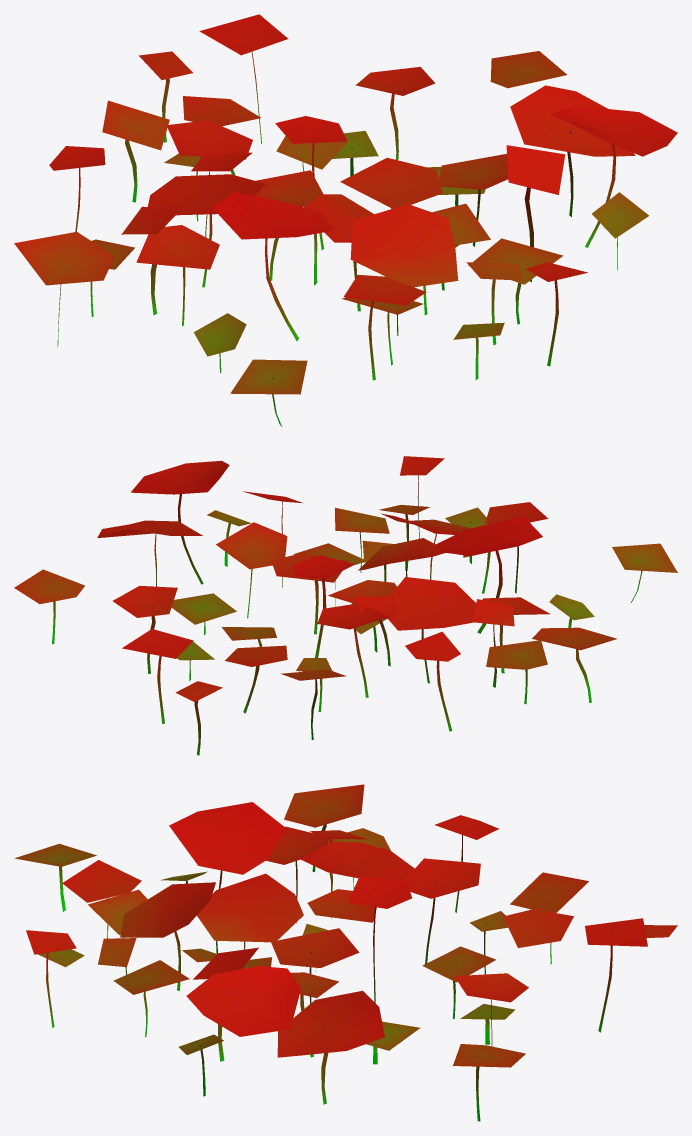
File: Var2_LOD1.fbx
3 views of the same model, one above another, from view 1: azimuth 30°, elevation 25°; view 2: azimuth 150°, elevation 25°; view 3: azimuth 270°, elevation 25° (orthographic). The views are drawn at different scales.
Parts seen in each view (by area): view 1: _bd13_Var2_LOD1; view 2: _bd13_Var2_LOD1; view 3: _bd13_Var2_LOD1.
Part boxes in pixels (box(x1,y1,x2,y2)): _bd13_Var2_LOD1: box(14, 14, 677, 426); _bd13_Var2_LOD1: box(14, 456, 677, 755); _bd13_Var2_LOD1: box(14, 784, 677, 1121).
Size of the model in its own units: 45 by 9.64 by 46.22.
